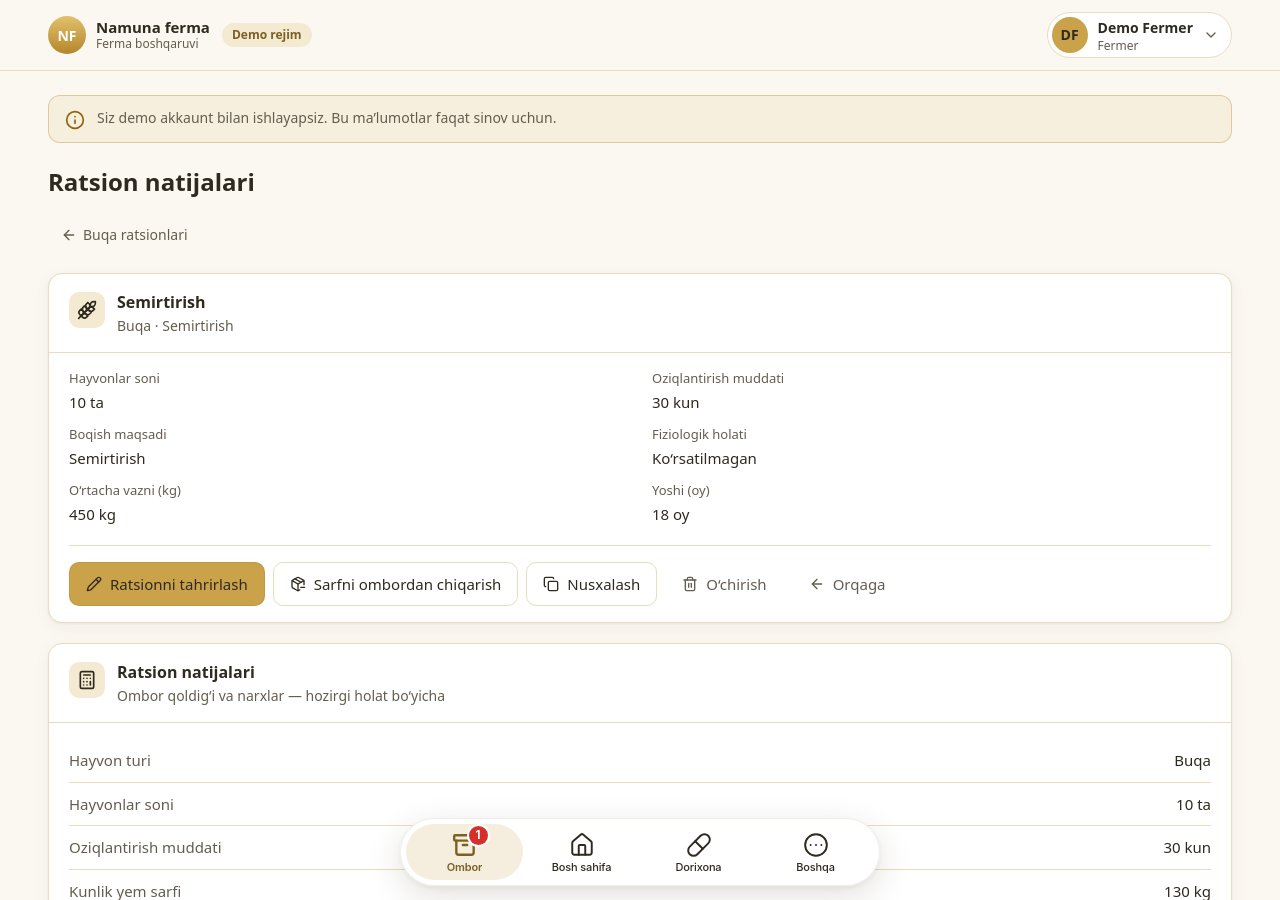
Test: feed calculator — rations › issues the real consumption from the warehouse, all or nothing
The image size is (1280, 900).
Click the button "Sarfni ombordan chiqarish" at {"x": 396, "y": 584}, box [273, 562, 518, 606]
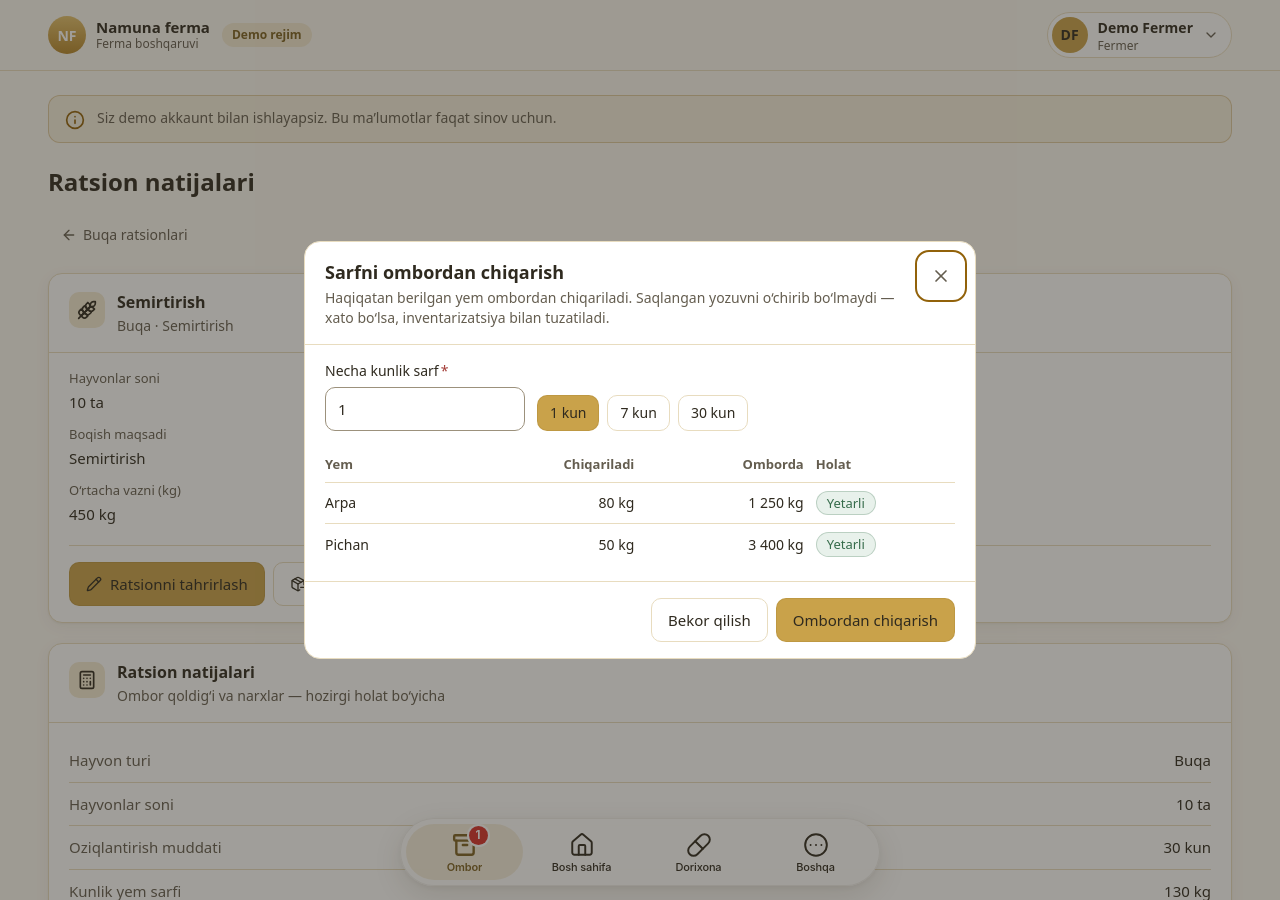
30 days need 2 400 kg of barley: the whole issue is refused before the API.
Click the button "30 kun" at {"x": 713, "y": 413}, box [678, 395, 748, 431]
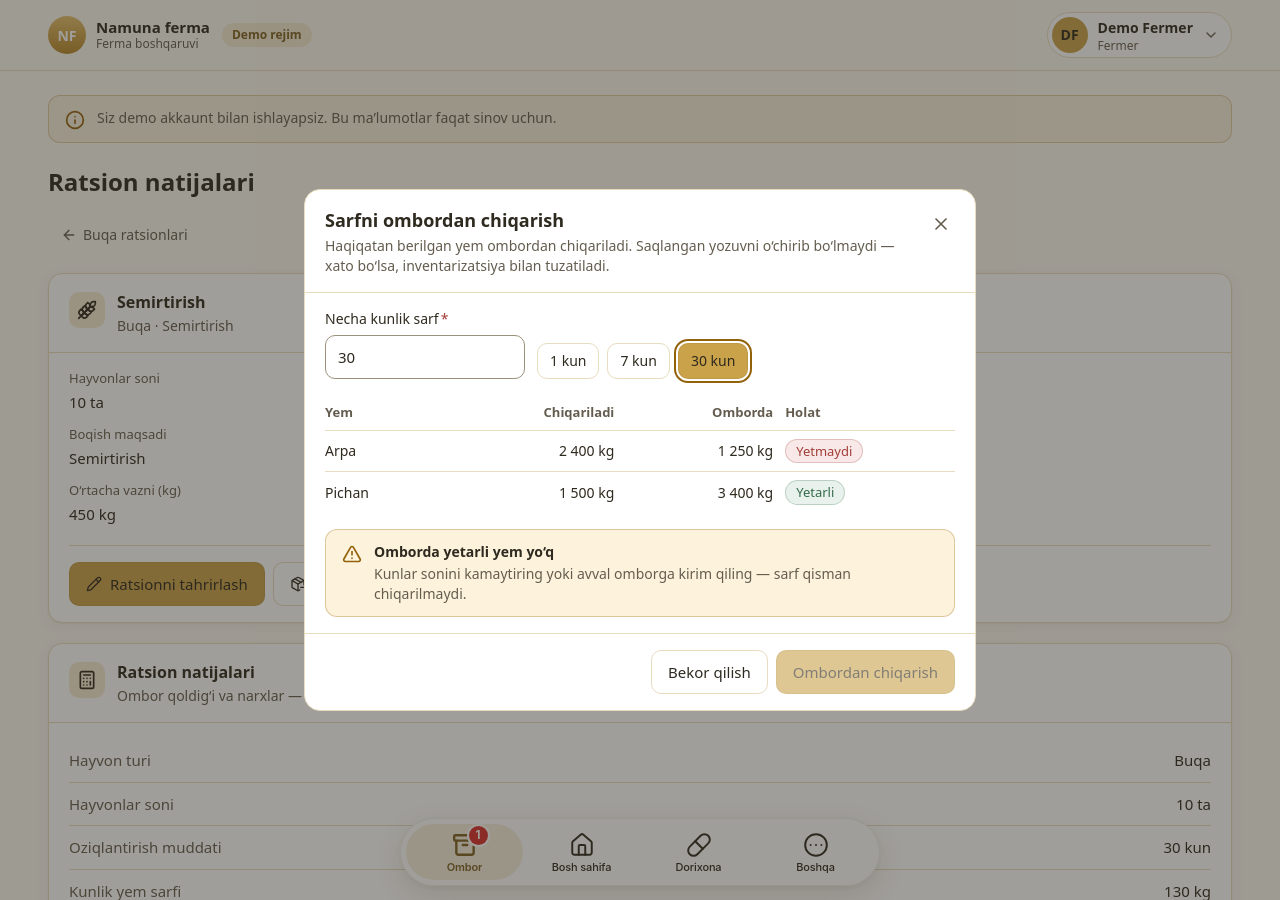
Now the text "Omborda yetarli yem yo‘q" is shown, box [374, 542, 554, 561]
Now the button "Ombordan chiqarish" is disabled, box [776, 650, 955, 694]
Click the button "1 kun" at {"x": 568, "y": 361}, box [537, 343, 599, 379]
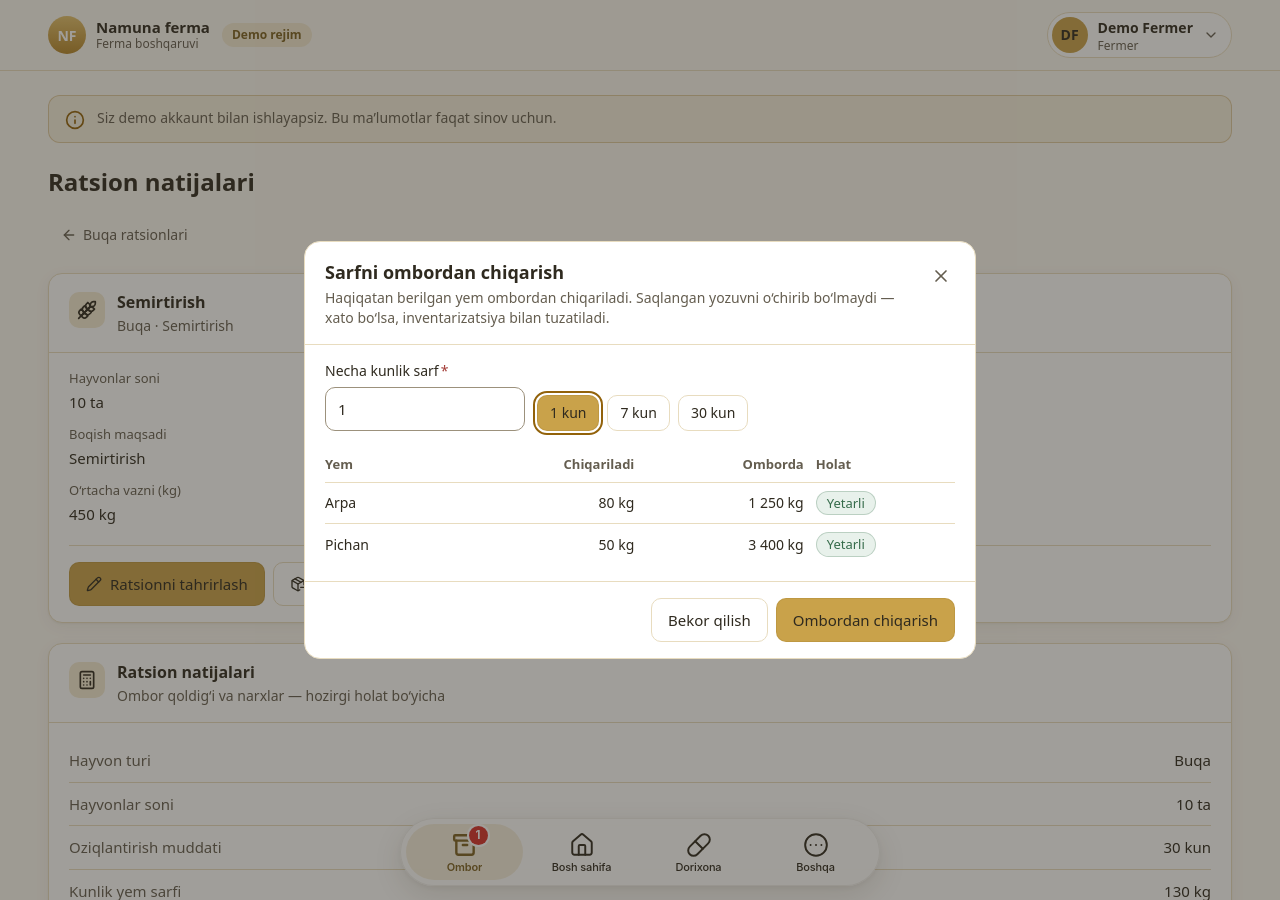
Click the button "Ombordan chiqarish" at {"x": 865, "y": 620}, box [776, 598, 955, 642]
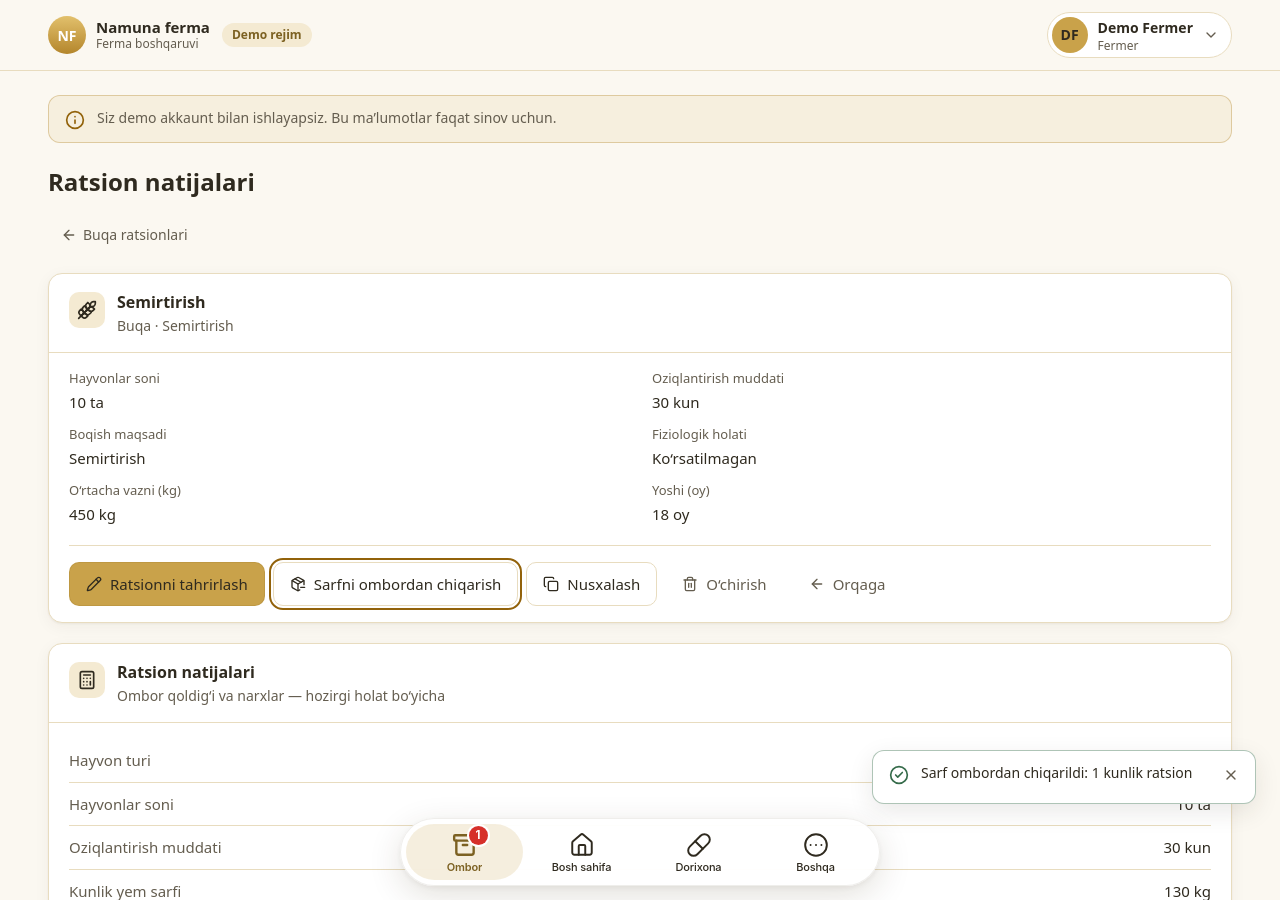
Now the dialog is gone
Click the button "Sarfni ombordan chiqarish" at {"x": 396, "y": 584}, box [273, 562, 518, 606]
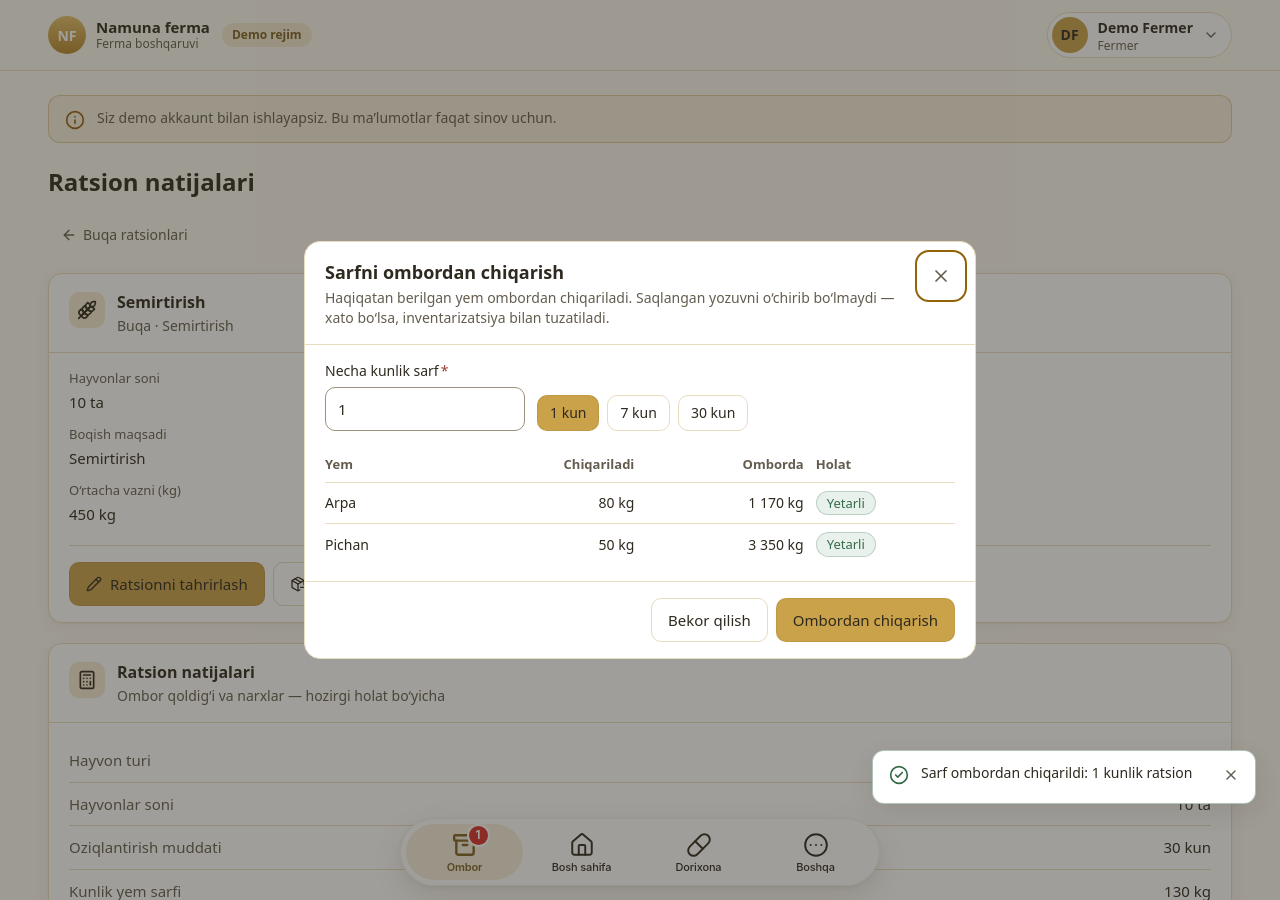
Click the button "Ombordan chiqarish" at {"x": 865, "y": 620}, box [776, 598, 955, 642]
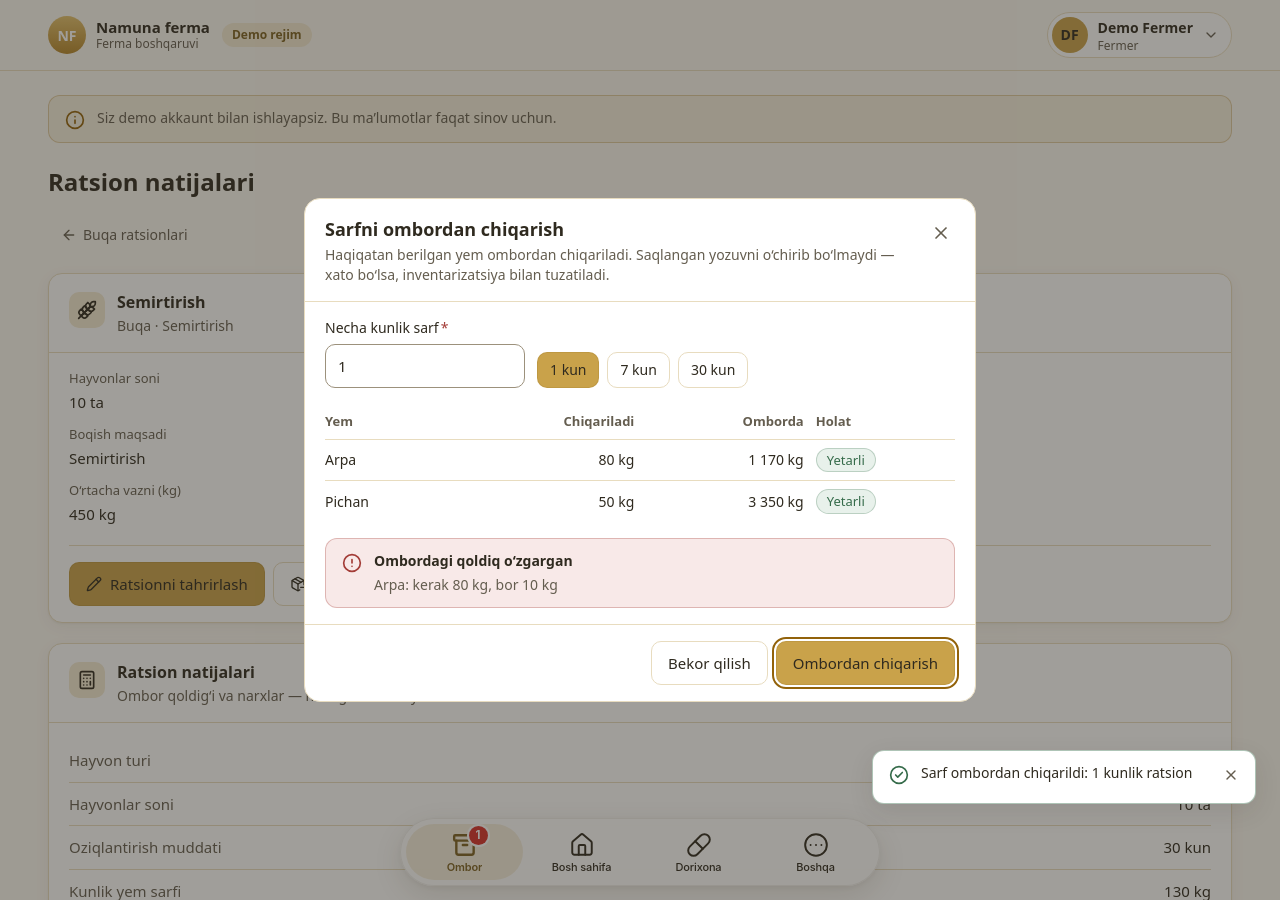
Now the text "Ombordagi qoldiq o‘zgargan" is shown, box [374, 551, 573, 570]
Now the list item "Arpa: kerak 80 kg, bor 10 kg" is shown, box [374, 575, 558, 594]
